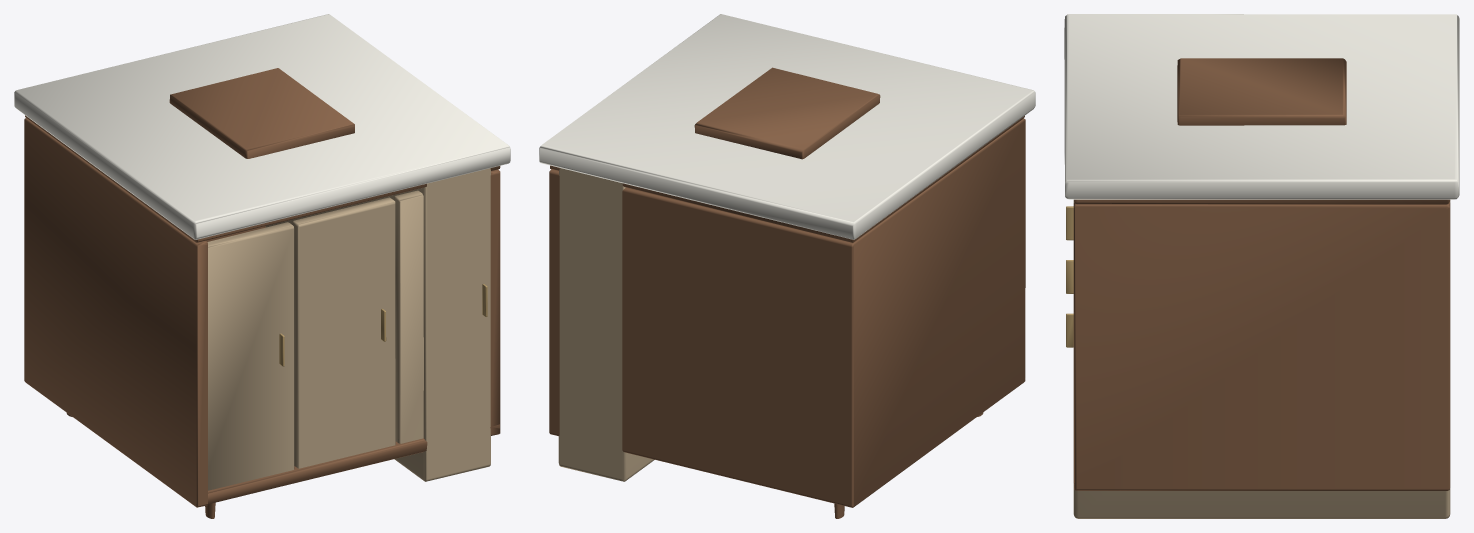
The model's file is cabinet-19-1.lod.glb.
3 renders of one model, left to right at view 1: azimuth 30°, elevation 25°; view 2: azimuth 150°, elevation 25°; view 3: azimuth 270°, elevation 25°, orthographic. The views are drawn at different scales.
Visible parts, largest first — view 1: upholstery, part, worktop; view 2: part, worktop, upholstery; view 3: part, worktop, upholstery (×2).
Part boxes in pixels (x1,y1,x2,y2): upholstery: (207,168,490,490); part: (24,68,500,518); worktop: (14,14,510,239); part: (549,67,1025,518); worktop: (539,14,1035,239); upholstery: (558,168,654,481); part: (1073,58,1450,490); worktop: (1064,14,1459,199); upholstery (×2): (1066,200,1450,518).
Size of the model in its own units: 1 by 1 by 1.
